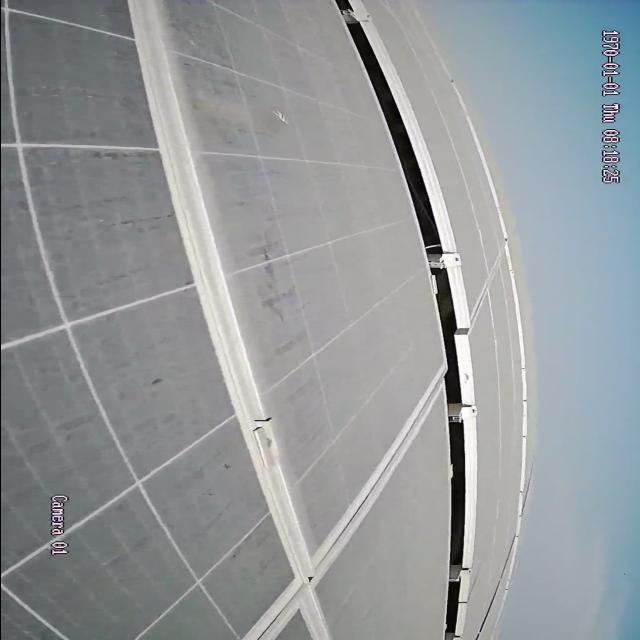interior panel: (127, 1, 437, 640)
outher panel: (331, 0, 477, 639)
